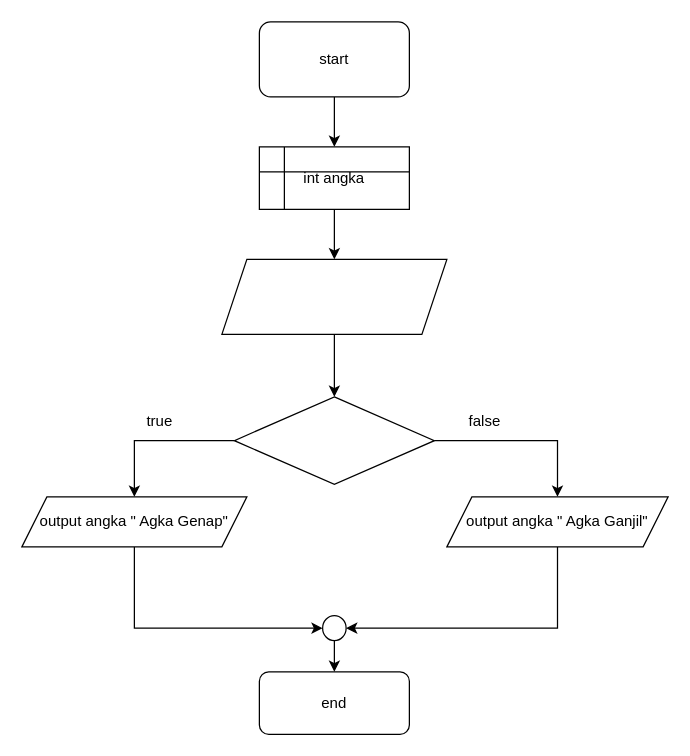
This 690x756 diagram has some shape labels left out. Each missing label, with the centre of its shape:
"angka % 2 == 0" belongs at (x=333, y=440).
"masukkan angka" belongs at (x=334, y=296).
